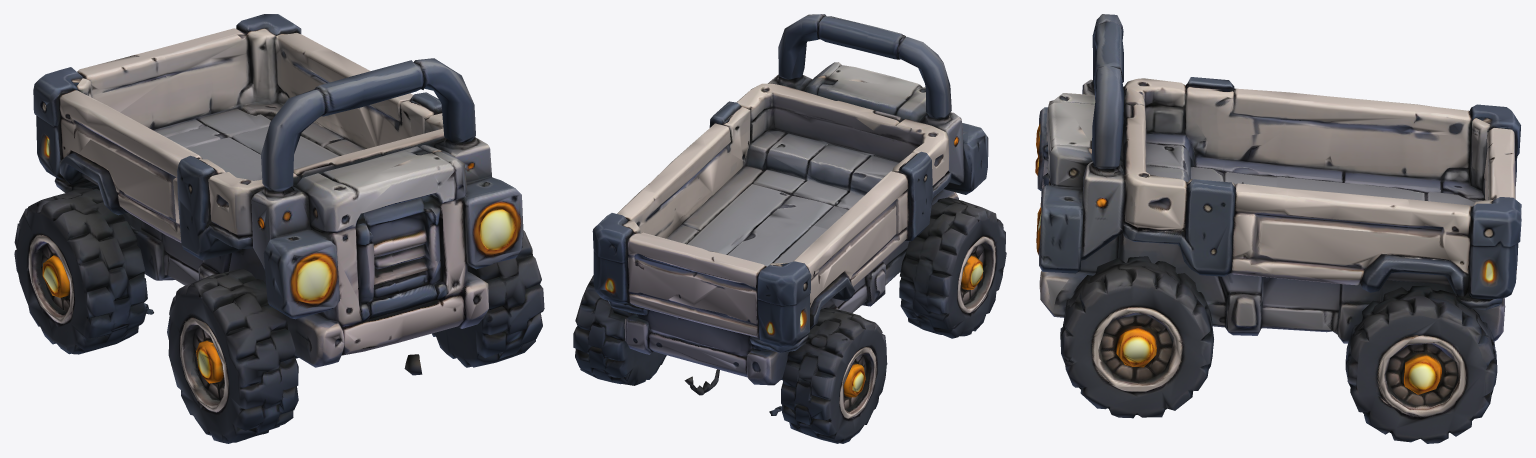
Rendered from cargo_rover.glb.
3 renders of one model, left to right at view 1: azimuth 30°, elevation 25°; view 2: azimuth 150°, elevation 25°; view 3: azimuth 270°, elevation 25°, orthographic. The views are drawn at different scales.
Size of the model in its own units: 1.36 by 1.45 by 1.87.
1 material, 1 textured.
